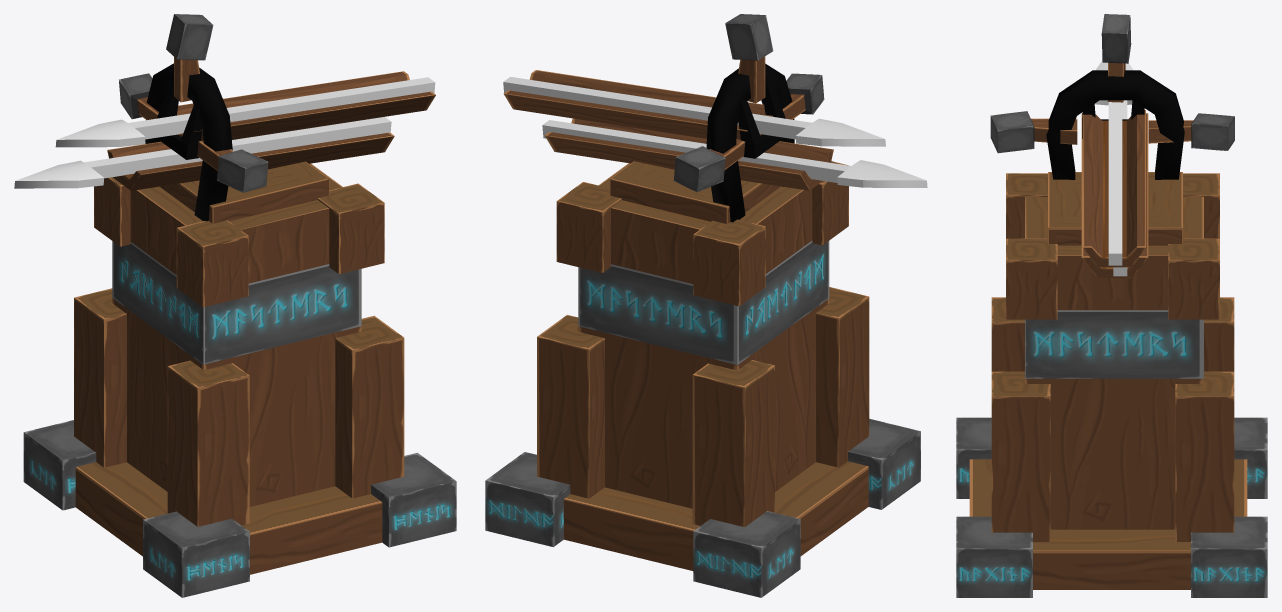
The model's file is Tower 2.FBX.
3 renders of one model, left to right at view 1: azimuth 30°, elevation 25°; view 2: azimuth 150°, elevation 25°; view 3: azimuth 270°, elevation 25°, orthographic. The views are drawn at different scales.
Parts seen in each view (by area): view 1: Box215, Box220, Box204, Box209, Box213, Box219, Box226, Box206, Box205, Box216, Box210, Box203 (+11 smaller); view 2: Box215, Box220, Box213, Box202, Box204, Box221, Box226, Box207, Box216, Box214, Box203, Box211 (+11 smaller); view 3: Box215, Box220, Box209, Box202, Box226, Box201, Box206, Box207, Box203, Box210, Box211, Box227 (+10 smaller).
Boxes of the visible parts, x1=… form: Box215: x1=112, y1=163, x2=361, y2=506; Box220: x1=75, y1=462, x2=382, y2=574; Box204: x1=167, y1=360, x2=249, y2=526; Box209: x1=335, y1=315, x2=404, y2=498; Box213: x1=74, y1=288, x2=126, y2=467; Box219: x1=143, y1=511, x2=249, y2=597; Box226: x1=177, y1=71, x2=435, y2=140; Box206: x1=371, y1=452, x2=456, y2=547; Box205: x1=176, y1=220, x2=248, y2=307; Box216: x1=107, y1=132, x2=394, y2=190; Box210: x1=317, y1=183, x2=384, y2=273; Box203: x1=160, y1=161, x2=329, y2=223; Box215: x1=578, y1=163, x2=829, y2=508; Box220: x1=564, y1=461, x2=868, y2=570; Box213: x1=692, y1=360, x2=774, y2=527; Box202: x1=537, y1=315, x2=604, y2=498; Box204: x1=816, y1=287, x2=869, y2=467; Box221: x1=693, y1=511, x2=800, y2=597; Box226: x1=503, y1=70, x2=773, y2=140; Box207: x1=485, y1=452, x2=570, y2=547; Box216: x1=544, y1=118, x2=833, y2=190; Box214: x1=693, y1=219, x2=765, y2=306; Box203: x1=610, y1=161, x2=780, y2=223; Box211: x1=556, y1=182, x2=621, y2=272; Box215: x1=1025, y1=197, x2=1203, y2=529; Box220: x1=969, y1=459, x2=1247, y2=589; Box209: x1=991, y1=371, x2=1050, y2=541; Box202: x1=1175, y1=371, x2=1234, y2=541; Box226: x1=1082, y1=110, x2=1145, y2=267; Box201: x1=1046, y1=70, x2=1184, y2=179; Box206: x1=956, y1=516, x2=1032, y2=597; Box207: x1=1191, y1=516, x2=1267, y2=597; Box203: x1=1048, y1=172, x2=1182, y2=245; Box210: x1=1006, y1=238, x2=1057, y2=319; Box211: x1=1168, y1=238, x2=1219, y2=319; Box227: x1=1108, y1=102, x2=1122, y2=265.
Bounding box in the file's own units: 68.21 × 77.91 × 44.81.
